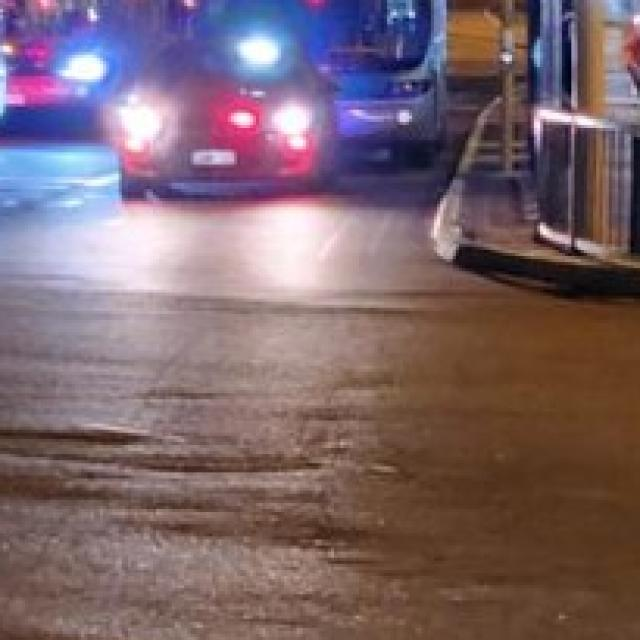bus: (184, 0, 452, 155), (0, 0, 181, 131), (0, 0, 9, 167)
car: (117, 25, 349, 200)
